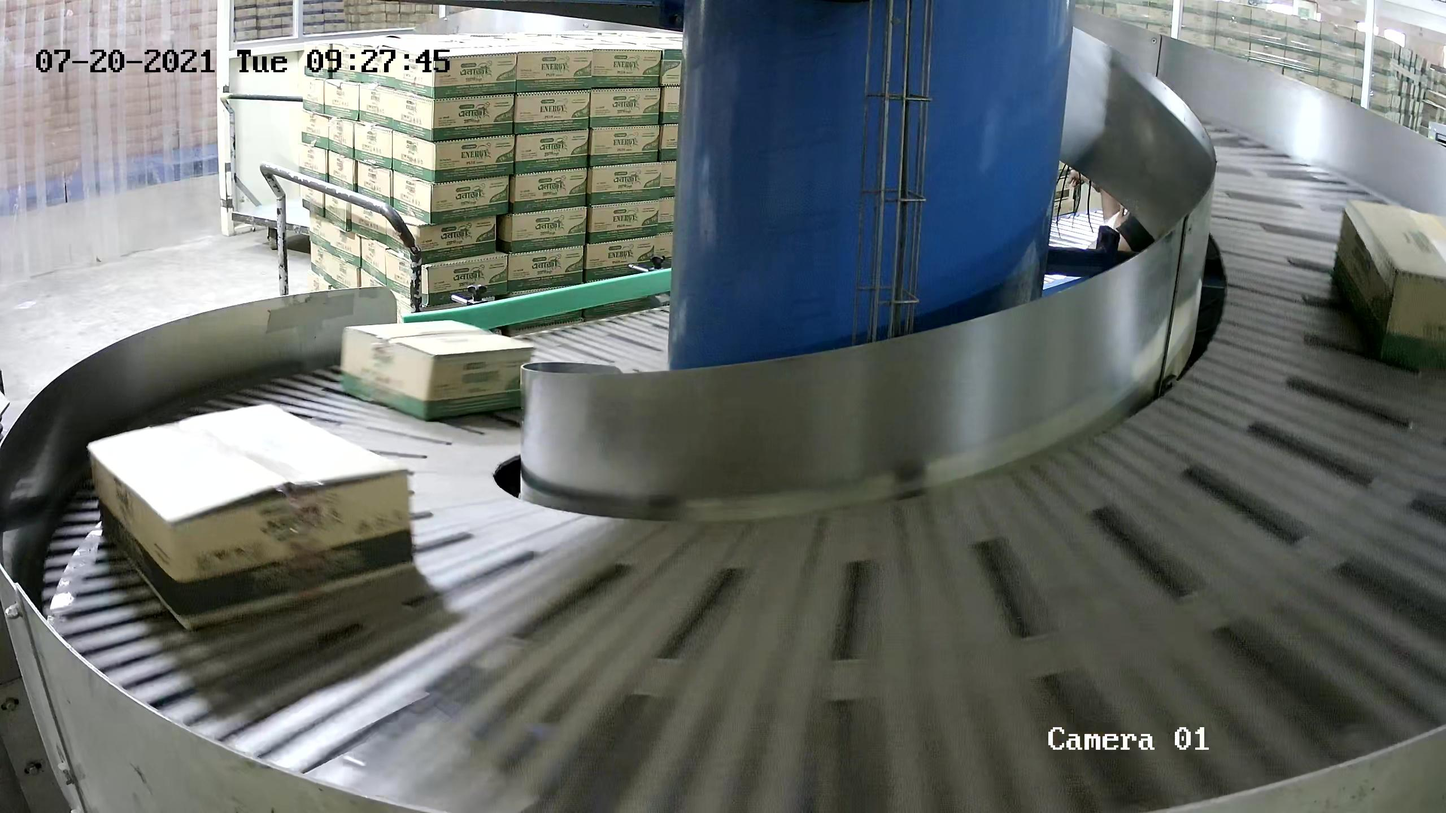Box: (85, 402, 417, 630), (1330, 197, 1446, 374), (340, 318, 537, 422)
